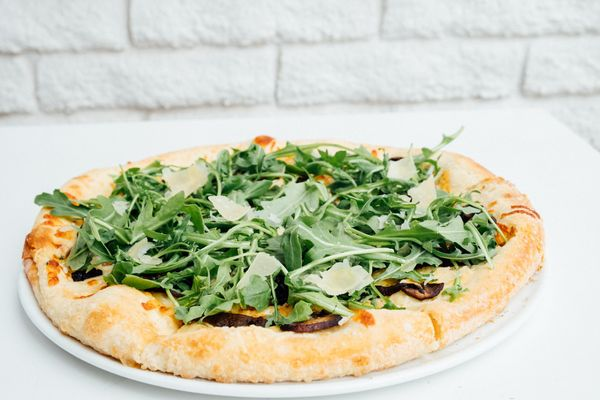sandwich: (20, 129, 540, 385)
